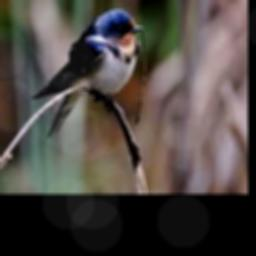Swallow: (31, 10, 144, 137)
